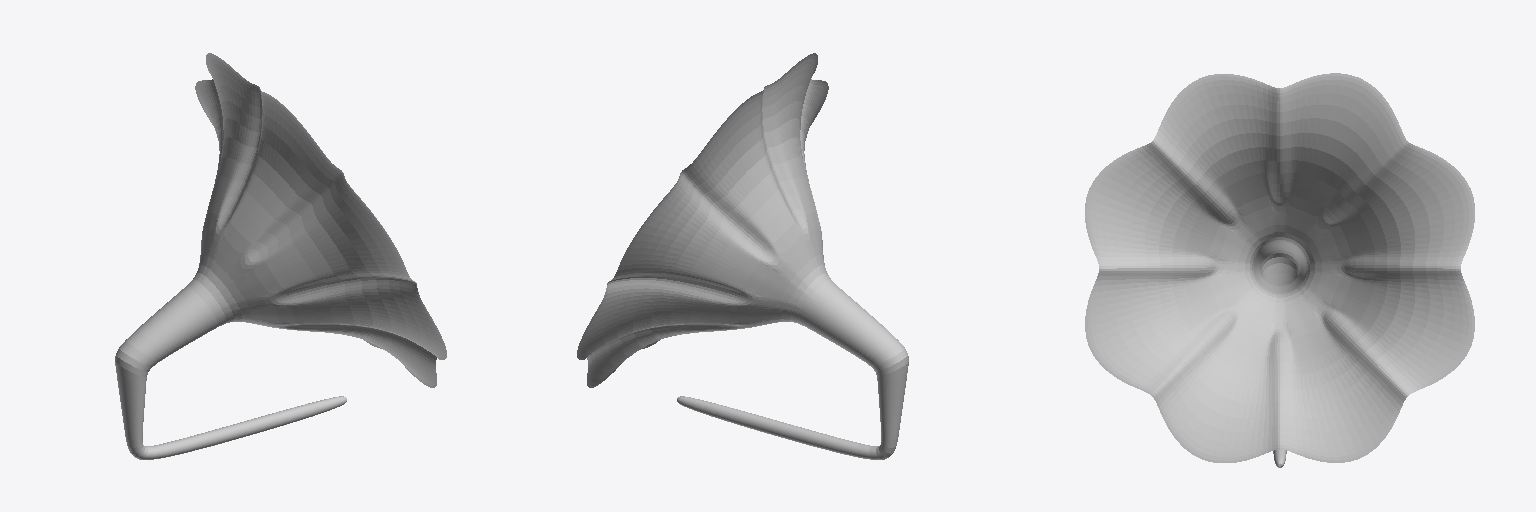
Rendered from gramophone_son.obj.
3 views of the same model, side by side, from view 1: azimuth 30°, elevation 25°; view 2: azimuth 150°, elevation 25°; view 3: azimuth 270°, elevation 25° (orthographic).
Parts seen in each view (by area): view 1: horn_Circle.002; view 2: horn_Circle.002; view 3: horn_Circle.002.
Part boxes in pixels (x1,y1,x2,y2): horn_Circle.002: (115, 53, 446, 459); horn_Circle.002: (577, 53, 908, 459); horn_Circle.002: (1085, 73, 1474, 467).
Size of the model in its own units: 2.08 by 2.57 by 2.54.